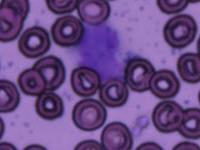M: (75, 22, 128, 83)
